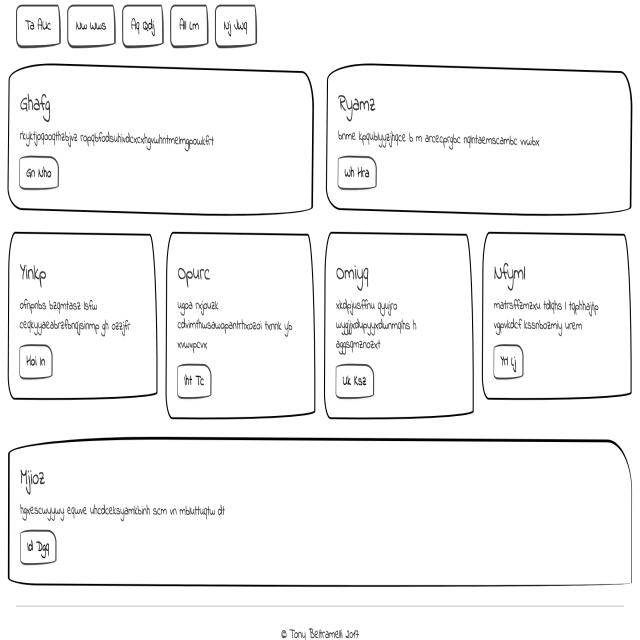Button: (334, 359, 376, 400), (18, 154, 60, 193), (335, 156, 378, 192), (18, 528, 58, 566), (16, 343, 54, 382), (176, 361, 212, 400), (492, 342, 526, 380)
Card: (7, 435, 634, 589), (324, 59, 633, 217), (7, 62, 315, 216), (323, 227, 475, 422), (165, 230, 316, 420), (6, 228, 159, 406), (482, 228, 634, 400)
Footer: (0, 596, 634, 640)
Heading 6: (335, 87, 380, 124), (16, 87, 55, 124), (490, 256, 530, 291), (333, 260, 373, 291), (175, 262, 214, 290), (16, 462, 49, 495), (18, 261, 51, 290)
Navigation Bar: (14, 2, 259, 52)
Paragraph: (176, 298, 294, 354), (15, 497, 228, 524), (16, 126, 217, 153), (332, 297, 421, 356), (18, 297, 135, 340), (491, 296, 605, 337), (335, 129, 539, 147)
